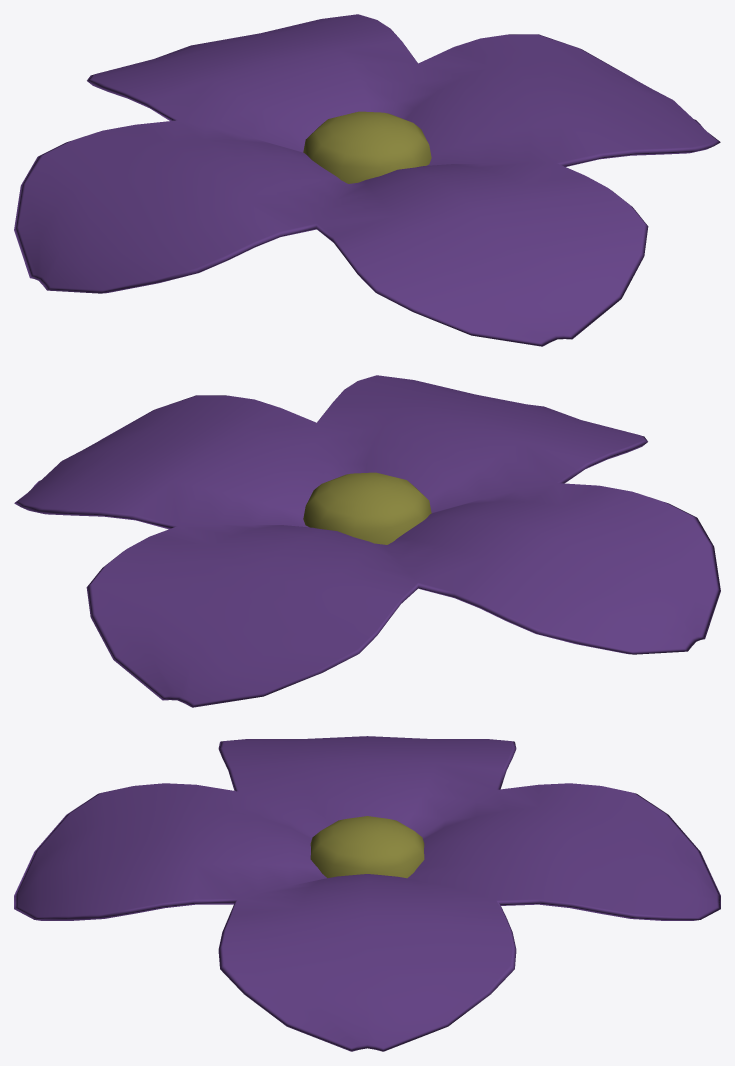
The model's file is ModularFlower_PinkFlower00.fbx.
The picture shows the model from 3 angles, top to bottom: view 1: azimuth 30°, elevation 25°; view 2: azimuth 150°, elevation 25°; view 3: azimuth 270°, elevation 25°; orthographic projection. The views are drawn at different scales.
Parts seen in each view (by area): view 1: pPlane94; view 2: pPlane94; view 3: pPlane94.
Part boxes in pixels (x1,y1,x2,y2): pPlane94: (14, 14, 720, 346); pPlane94: (14, 375, 720, 707); pPlane94: (14, 736, 720, 1051).
Size of the model in its own units: 398 by 48.38 by 398.
